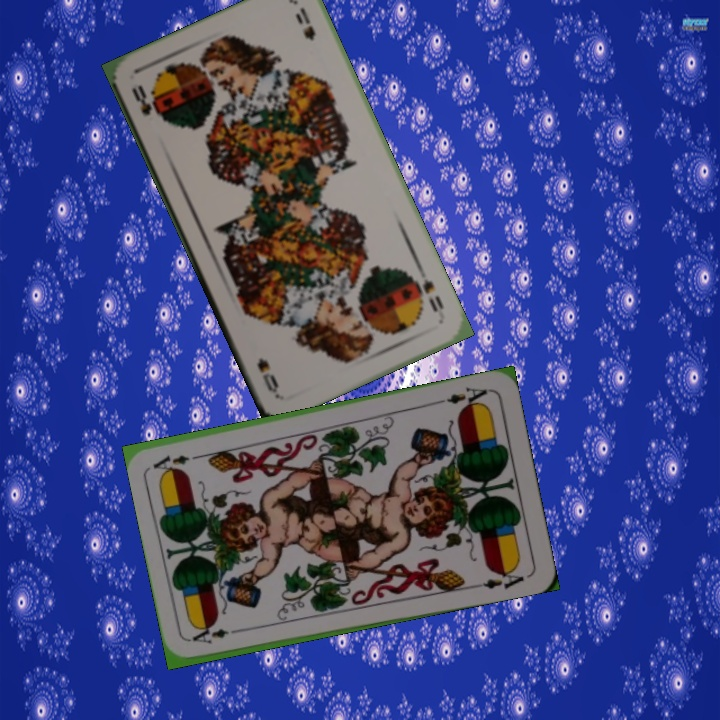EA: (434, 383, 492, 411), (188, 624, 246, 647)
SO: (127, 81, 162, 120), (418, 275, 447, 315)
